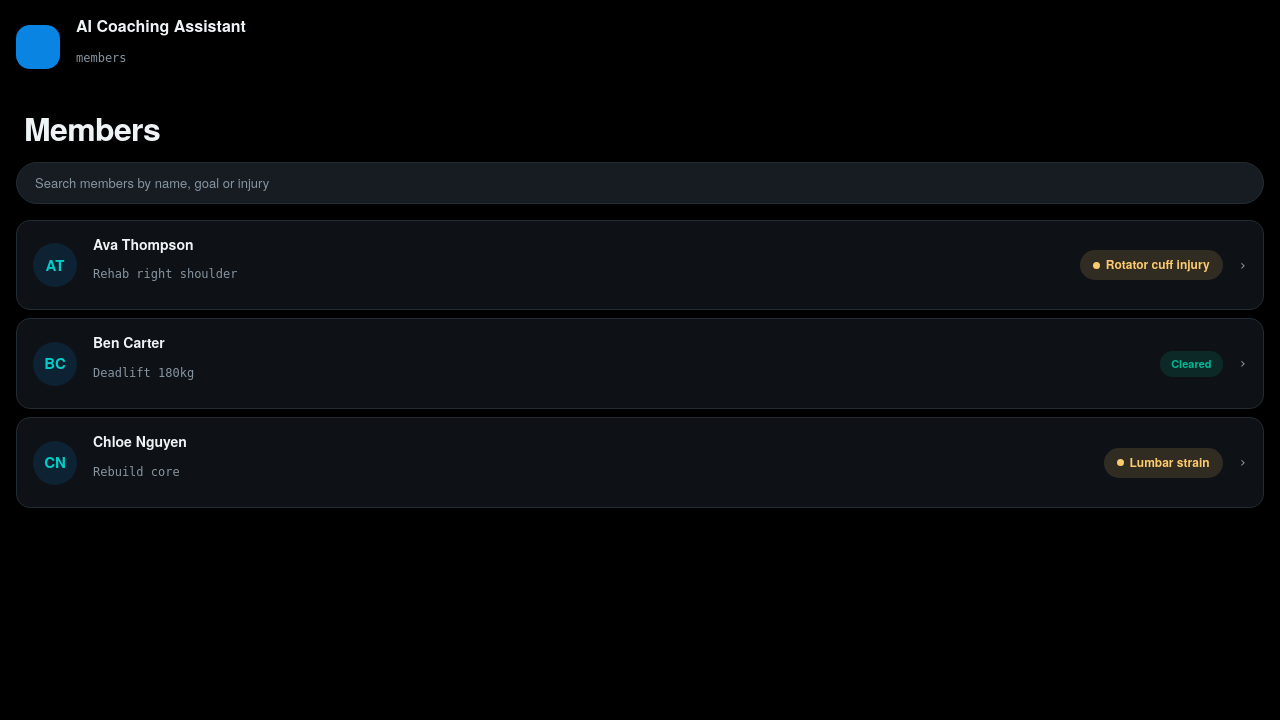
Test: generating a workout sends the typed focus as the request query
Click the button "AT Ava Thompson Rehab right shoulder Rotator cuff injury ›" at (55, 265), box top-left (16, 220), bottom-right (1264, 310)
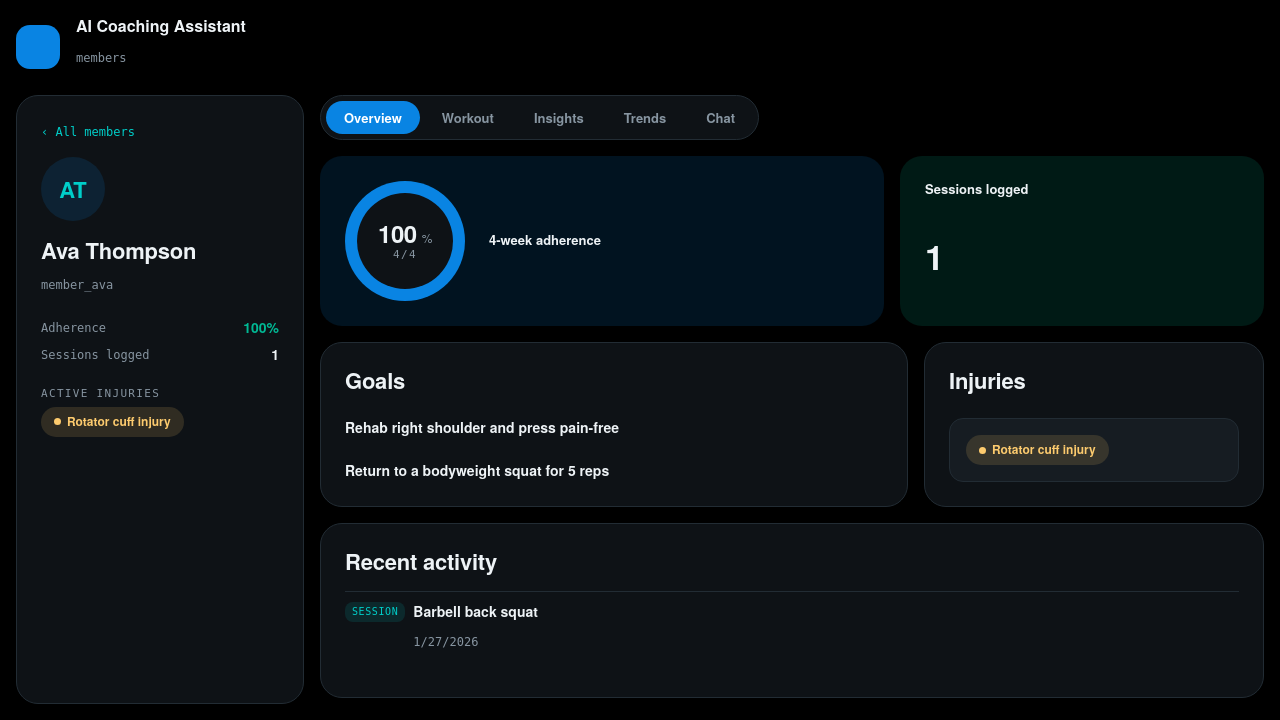
Check: the text "Rehab right shoulder and press pain-free" is shown, box top-left (345, 417), bottom-right (619, 437)
Click the tab "Workout" at (468, 117), box top-left (424, 101), bottom-right (512, 134)
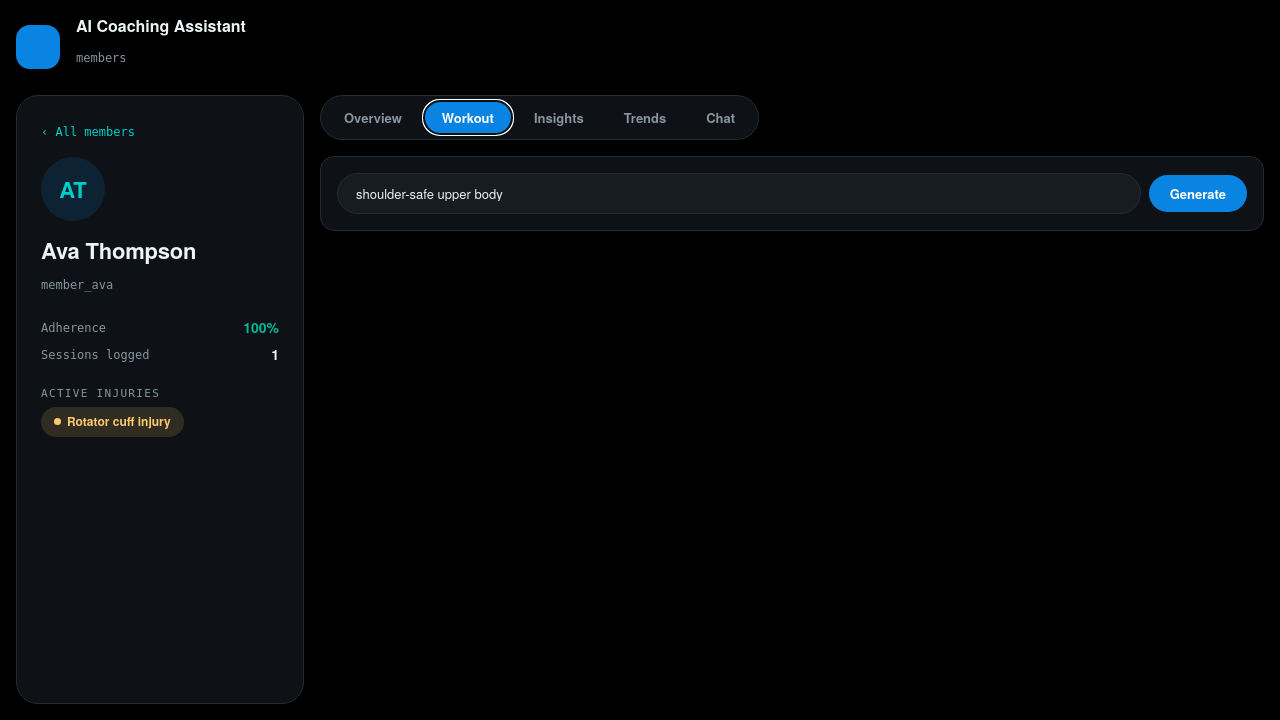
Replace the text in the field named "Workout focus" with "return to running" at (739, 194), box top-left (337, 173), bottom-right (1141, 214)
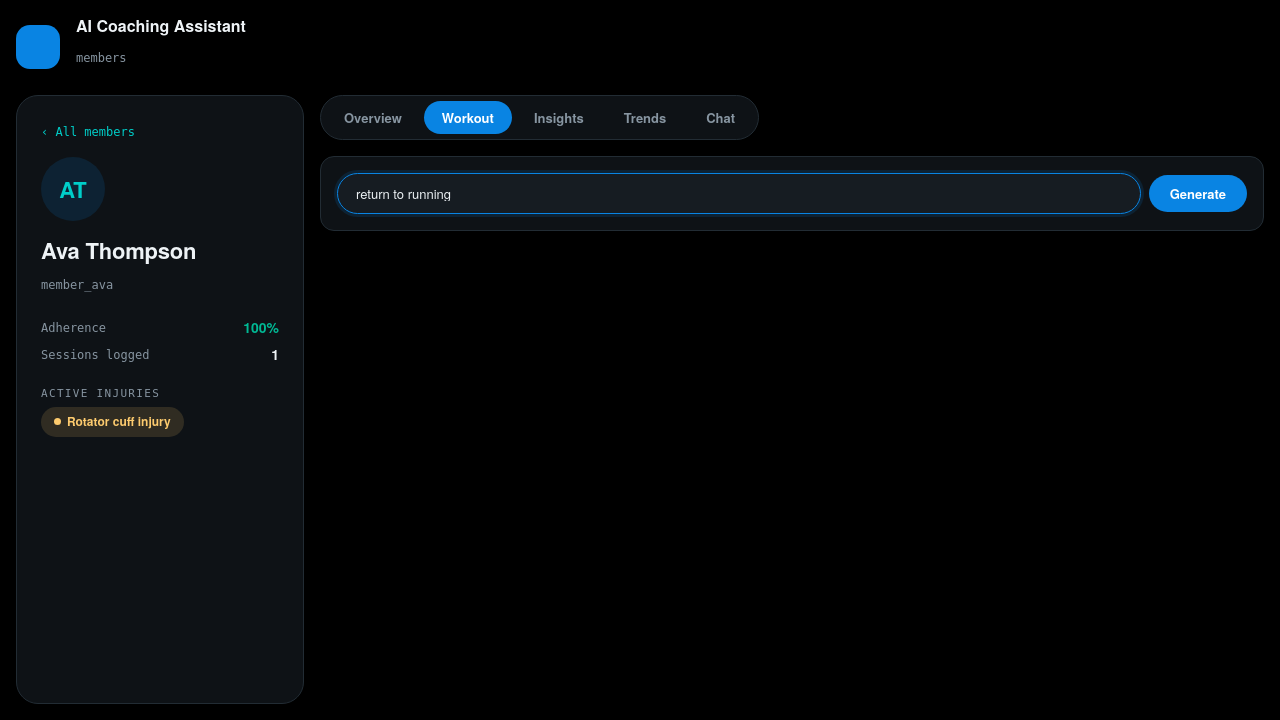
Click the button "Generate" at (1198, 194), box top-left (1149, 175), bottom-right (1247, 212)
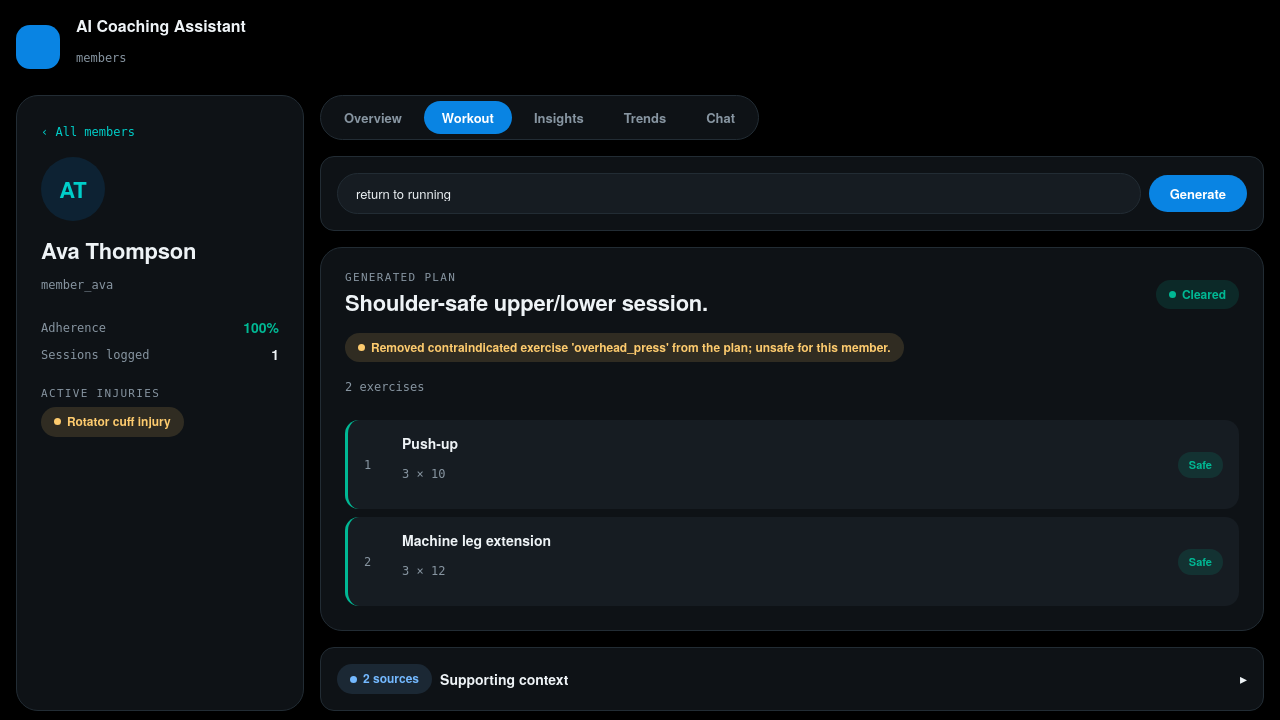
Check: the element that starts with "Generated plan" is shown, box top-left (320, 247), bottom-right (1264, 631)
